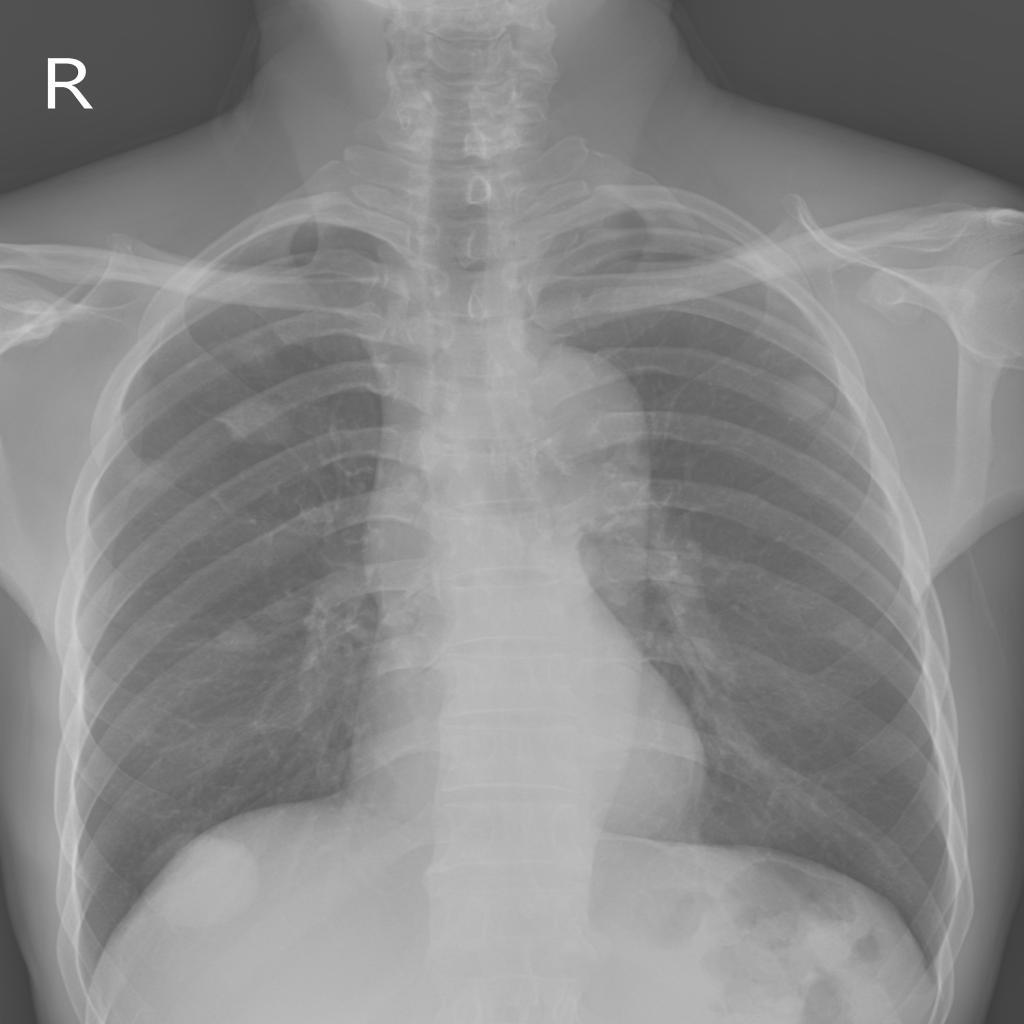Nodule: (133, 834, 262, 931), (525, 523, 604, 580), (775, 375, 837, 421), (228, 405, 293, 443), (829, 615, 872, 656), (228, 333, 276, 366), (125, 464, 178, 490), (220, 625, 265, 654), (261, 593, 301, 623), (687, 310, 715, 337)
